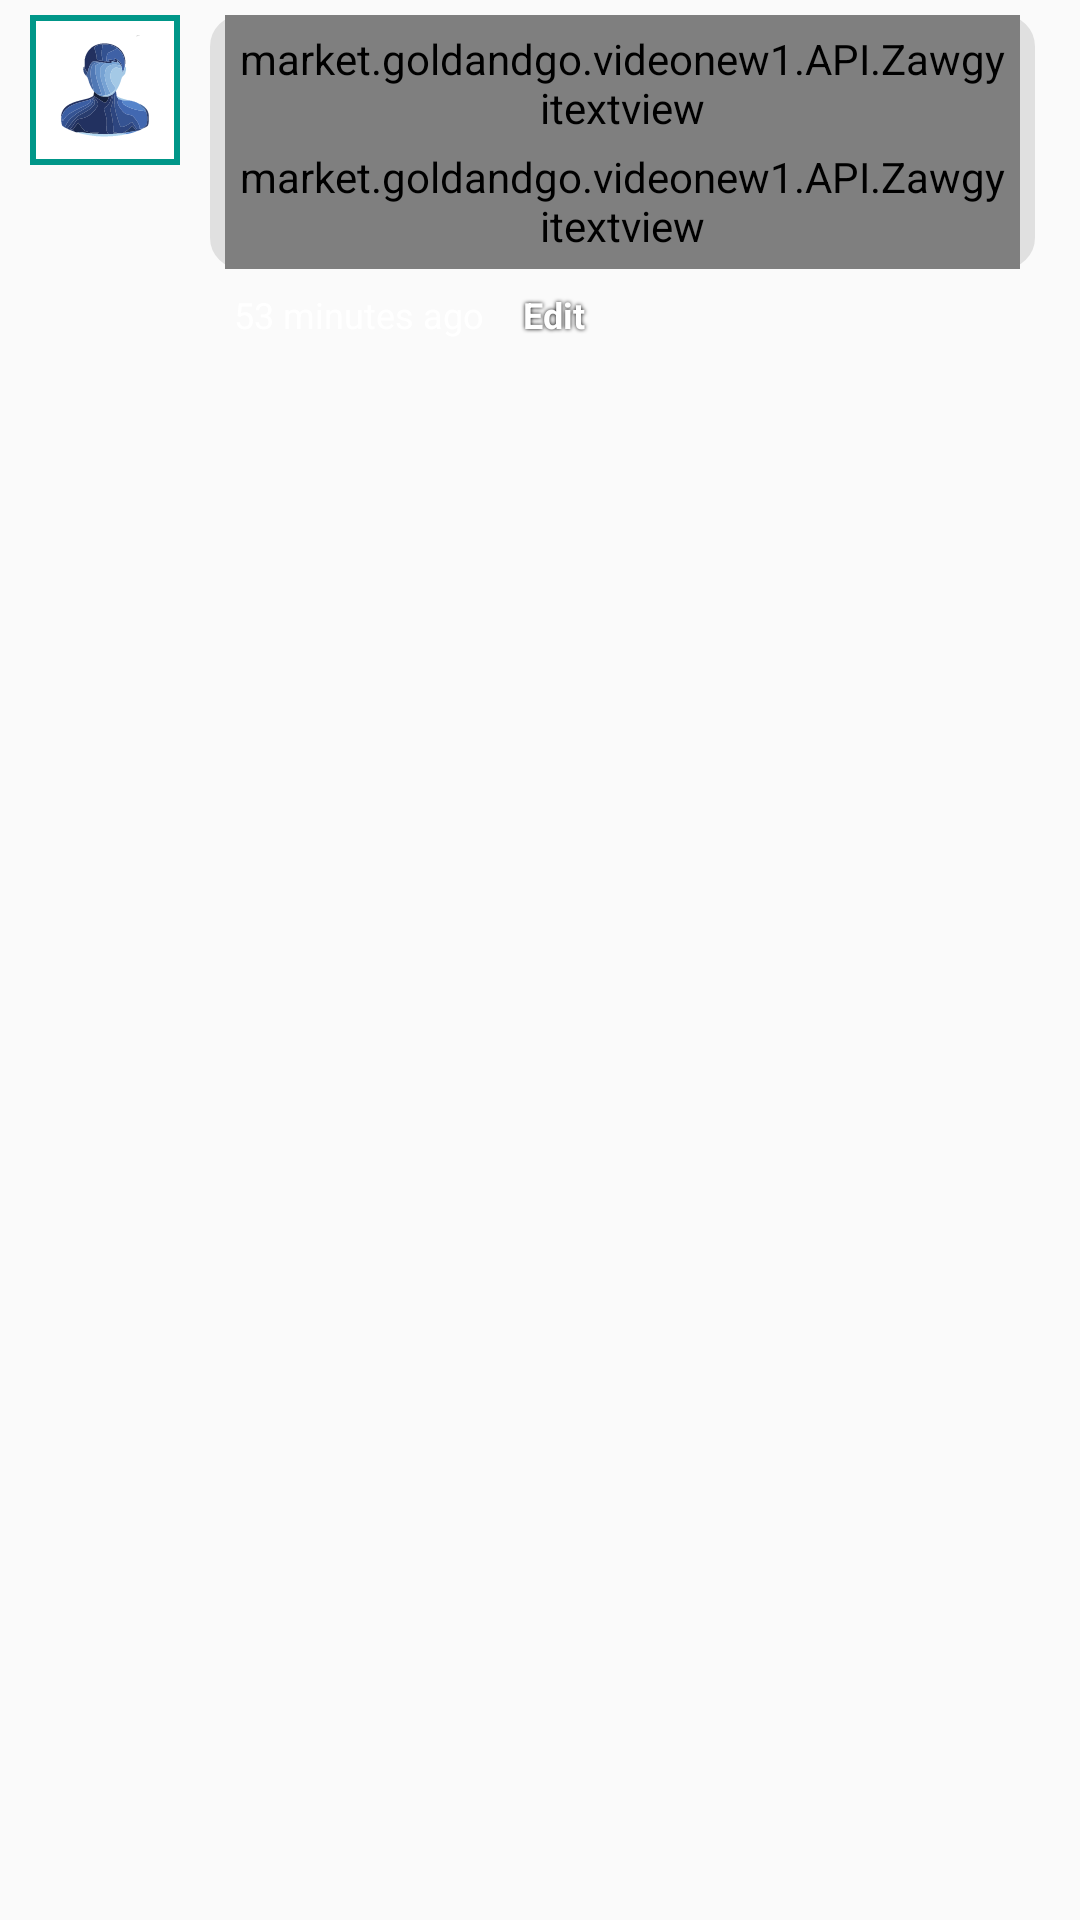

Screen size 1080w x 1920h. Icon name, then its center in pixels as [x,y]:
user: [105,90]
